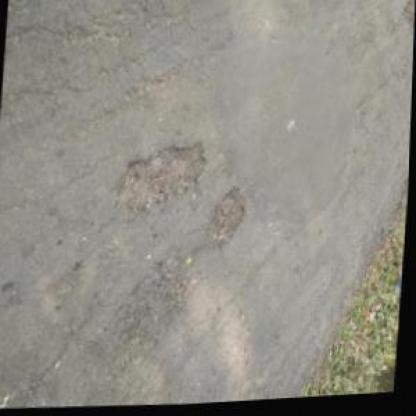pothole: (114, 252, 202, 372), (112, 143, 211, 220), (201, 186, 248, 255)
